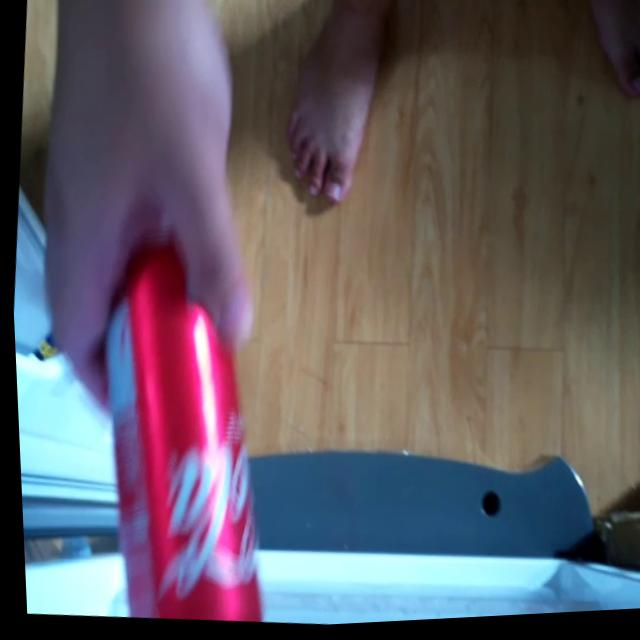coke: (67, 222, 301, 632)
